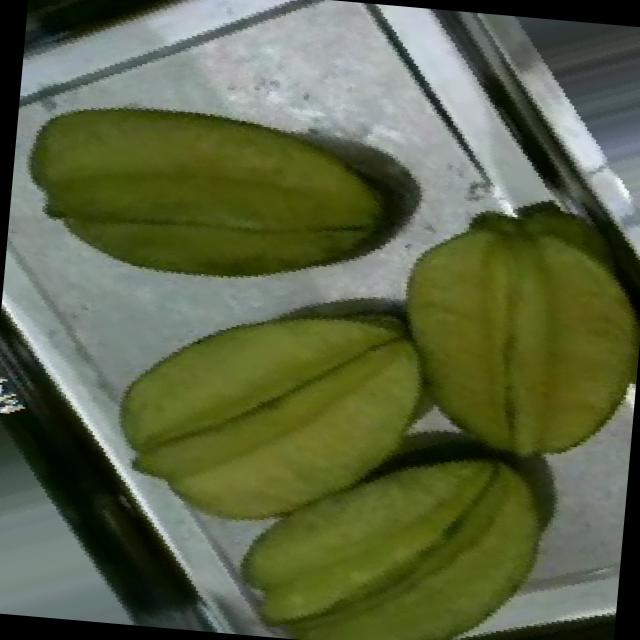fruit: (75, 221, 490, 591), (4, 25, 418, 352), (349, 144, 640, 511)
